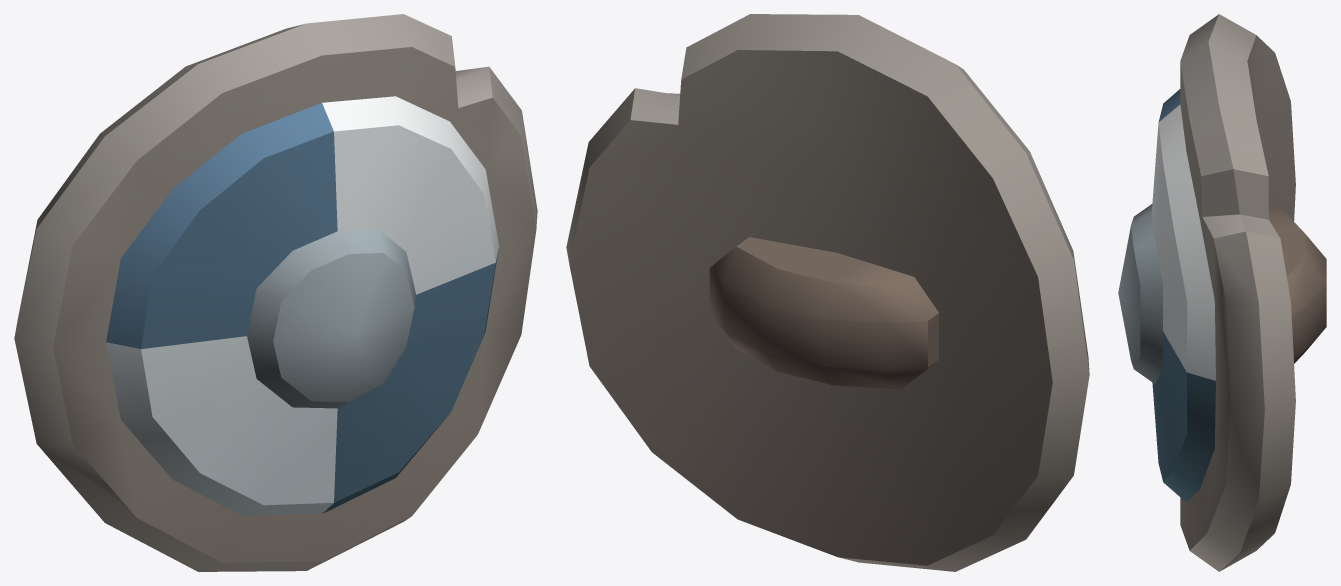
3 renders of one model, left to right at view 1: azimuth 30°, elevation 25°; view 2: azimuth 150°, elevation 25°; view 3: azimuth 270°, elevation 25°, orthographic. The views are drawn at different scales.
Parts seen in each view (by area): view 1: shield_round_barbarian; view 2: shield_round_barbarian; view 3: shield_round_barbarian.
Boxes of the visible parts, <box> form: shield_round_barbarian: <box>14,14,537,571</box>; shield_round_barbarian: <box>566,14,1089,571</box>; shield_round_barbarian: <box>1118,14,1326,571</box>.
Size of the model in its own units: 0.8826 by 0.8826 by 0.3319.
Materials: 1 (1 with a texture image).
